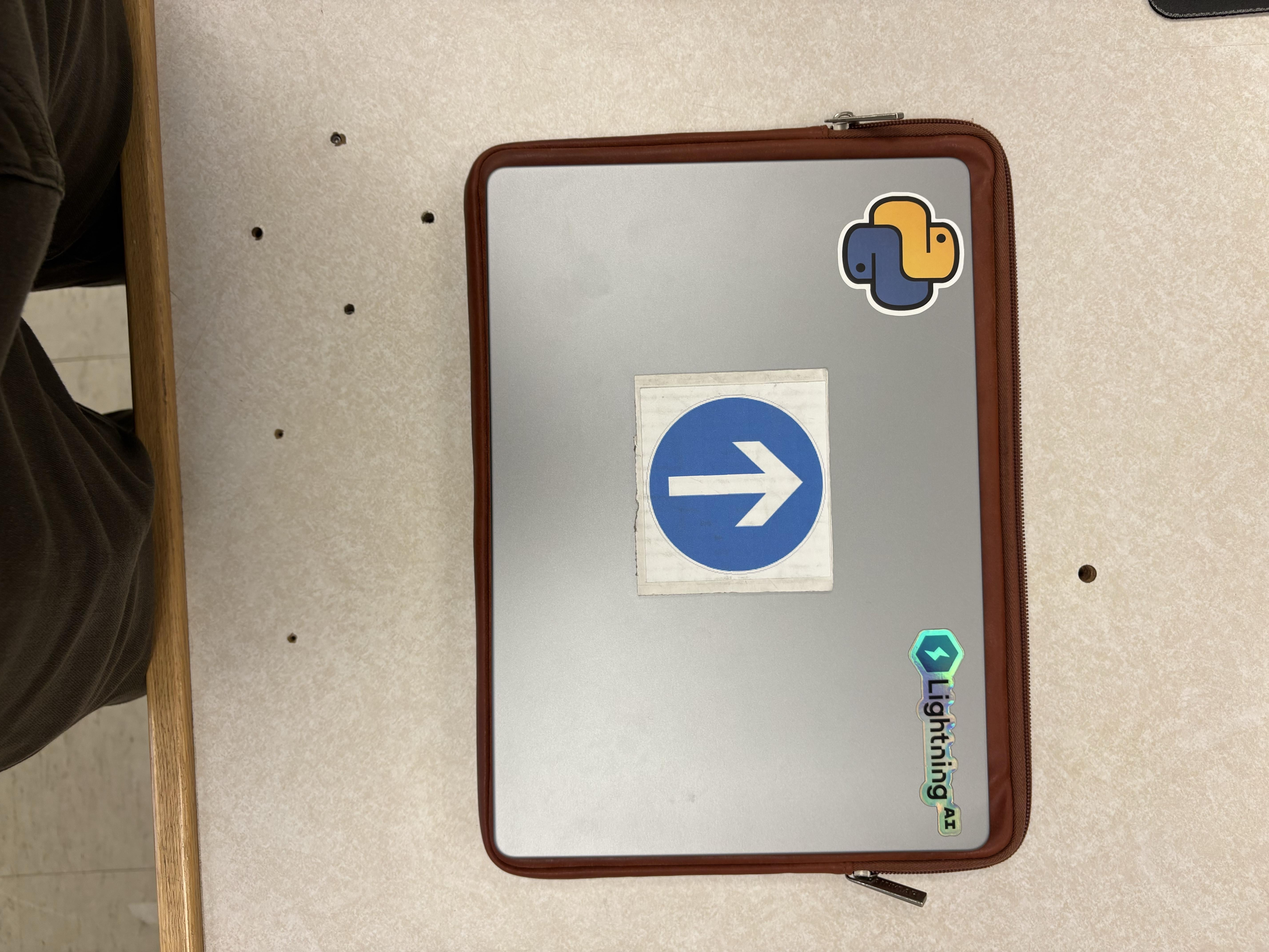Proceed Right: (635, 373, 838, 594)
